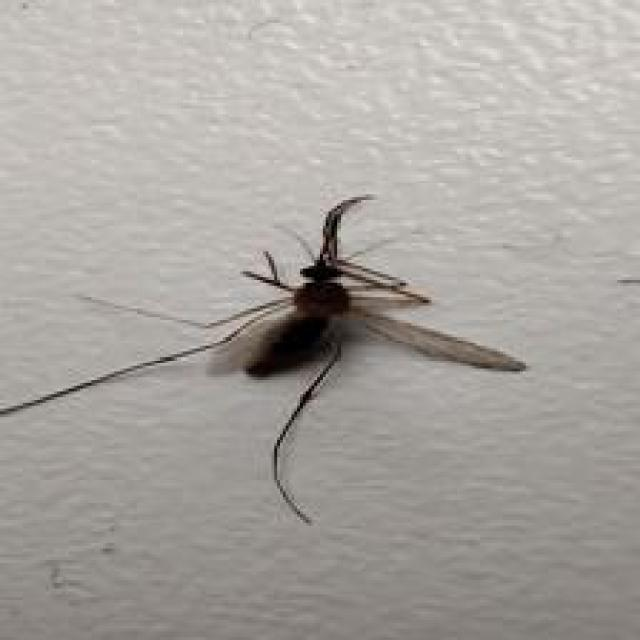Culex: (0, 191, 529, 526)
